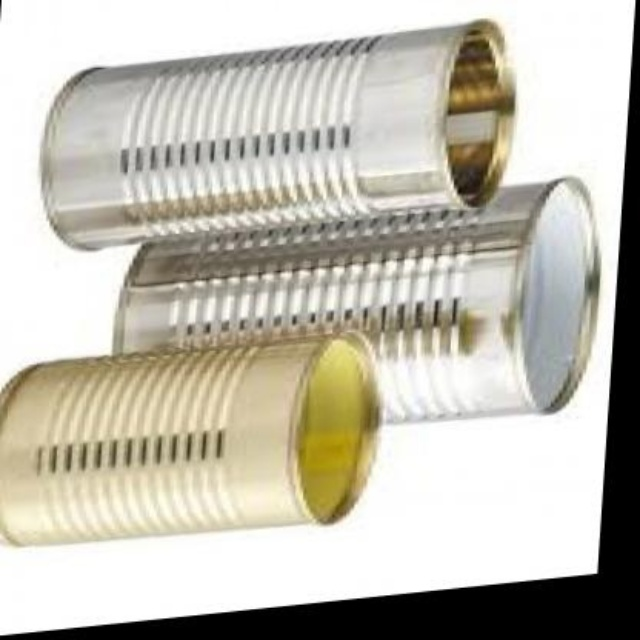trash: (0, 20, 598, 543), (0, 178, 597, 543), (115, 178, 597, 420), (42, 20, 514, 248), (0, 334, 378, 543)
